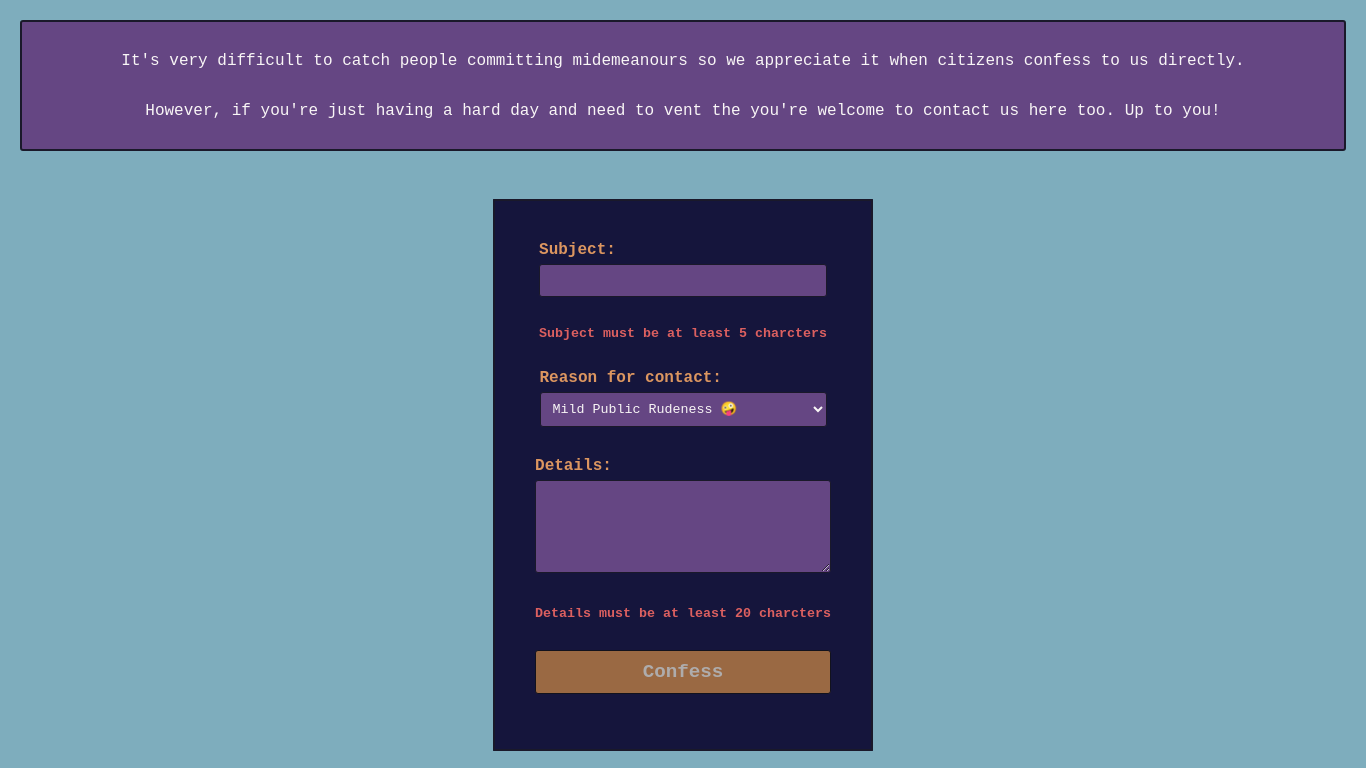
it: MisdemeanourTable › button should enable when form is filled in
Type "hello" into the field with test id "Subject" at (683,281), box [539, 264, 827, 297]
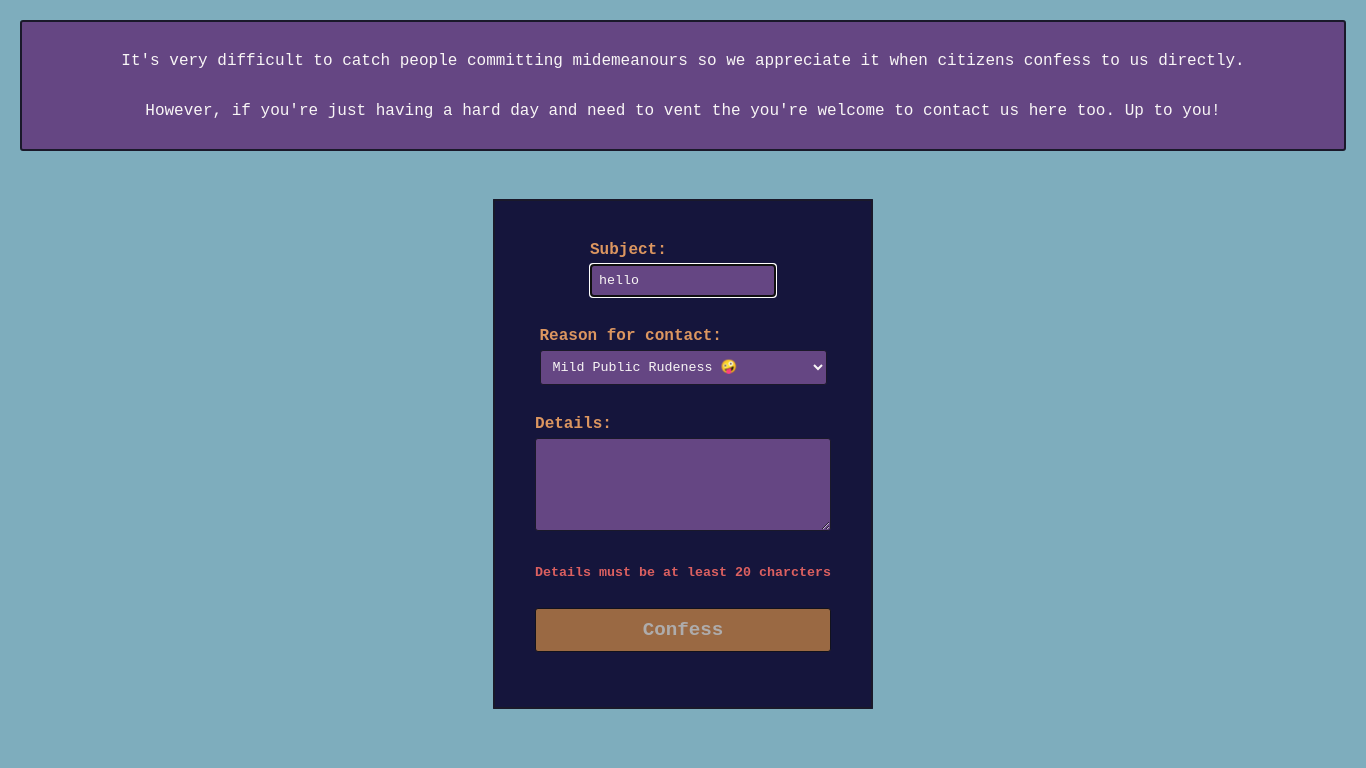
Type "blah blah blah blah blah blah" into the text box with test id "Details" at (683,485), box [535, 438, 831, 531]
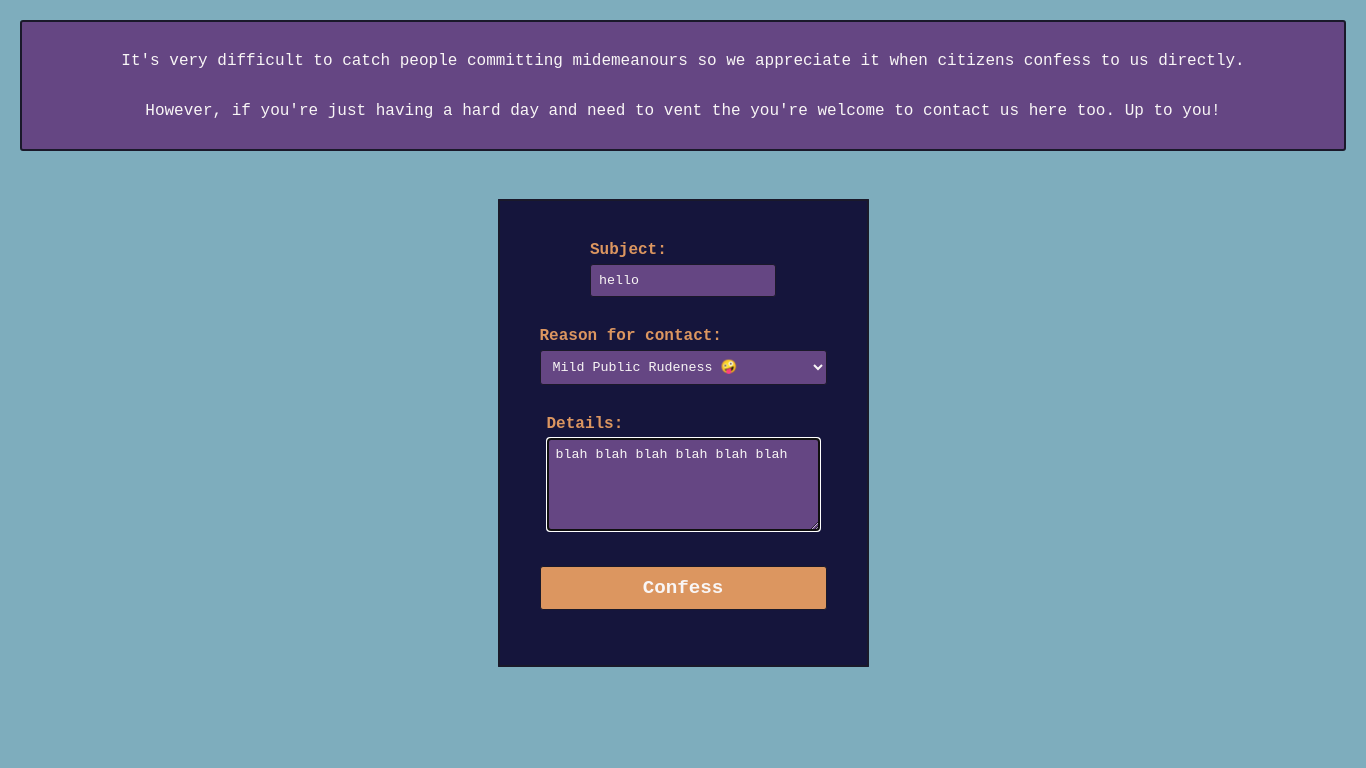
Result: the button is enabled at [540, 566, 826, 610]
